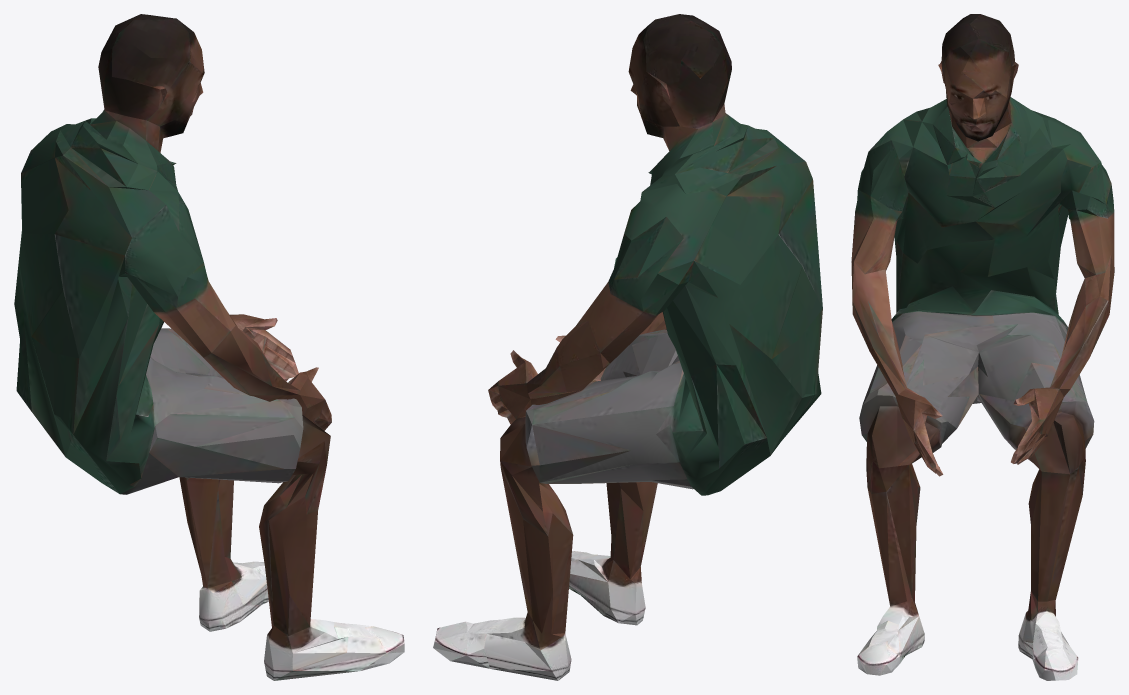
File: crowd-sp-6.glb
3 renders of one model, left to right at view 1: azimuth 30°, elevation 25°; view 2: azimuth 150°, elevation 25°; view 3: azimuth 270°, elevation 25°, orthographic. The views are drawn at different scales.
Visible parts, largest first — view 1: char1; view 2: char1; view 3: char1.
Part boxes in pixels (bbox=[...]): char1: bbox=[14, 14, 404, 680]; char1: bbox=[433, 14, 822, 680]; char1: bbox=[851, 14, 1114, 680].
Size of the model in its own units: 0.7209 by 1.45 by 0.5894.
1 material, 1 textured.
